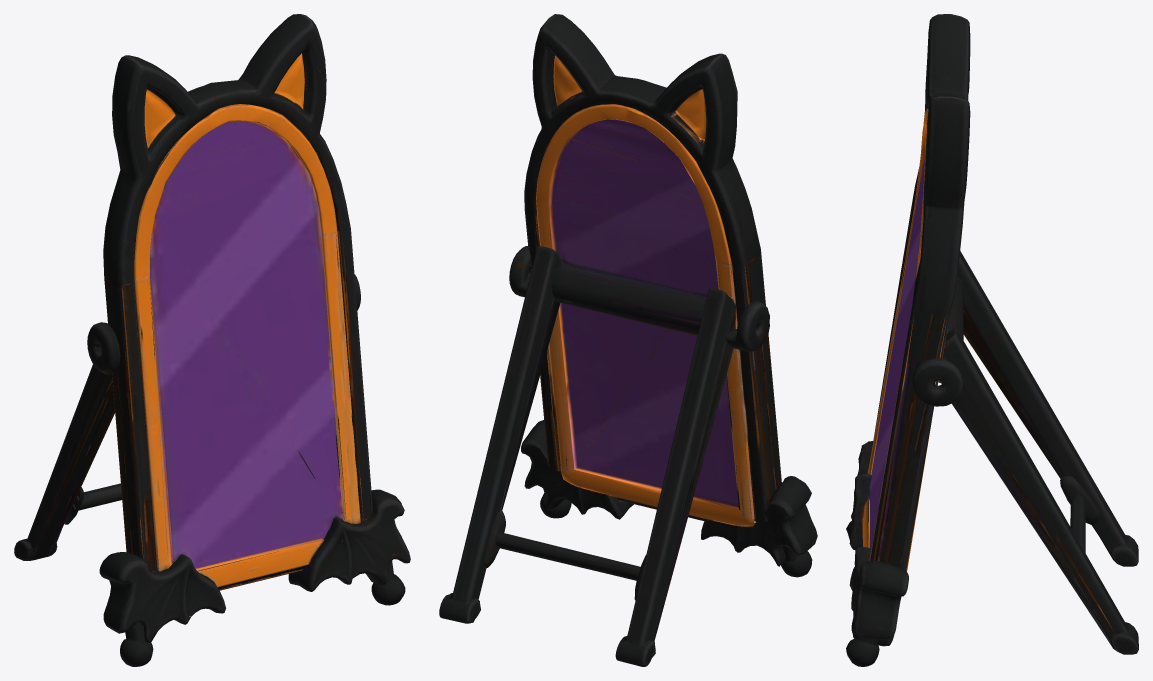
The model's file is halloween_cat_ear_mirror.glb.
3 views of the same model, side by side, from view 1: azimuth 30°, elevation 25°; view 2: azimuth 150°, elevation 25°; view 3: azimuth 270°, elevation 25° (orthographic). The views are drawn at different scales.
Parts seen in each view (by area): view 1: furniture-fit; view 2: furniture-fit; view 3: furniture-fit.
Boxes of the visible parts, <box> form: furniture-fit: <box>14,14,410,666</box>; furniture-fit: <box>439,14,817,666</box>; furniture-fit: <box>846,14,1138,666</box>.
Size of the model in its own units: 1.44 by 2.65 by 1.28.
1 material, 1 textured.
